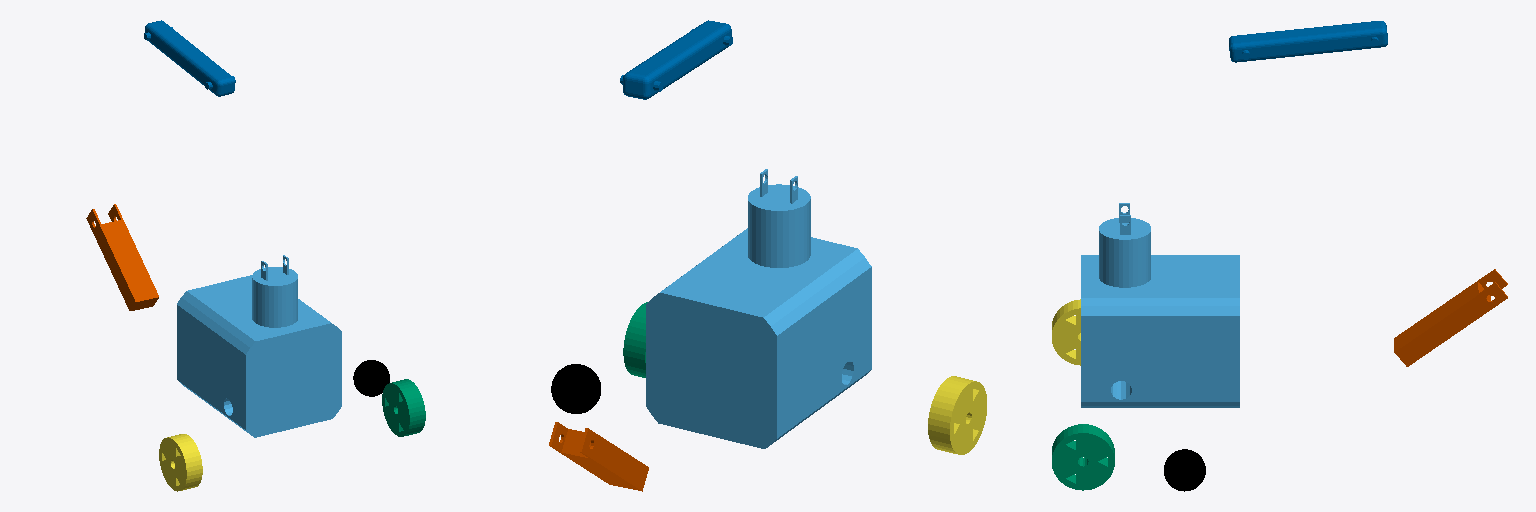
The robot description file, URDF, robot "assem1":
<?xml version="1.0" encoding="utf-8"?>
<robot name="assem1">
  <link name="base_footprint"/>
  <joint name="base_footprint_joint" type="fixed">
    <parent link="base_footprint"/>
    <child link="base_link"/>
    <origin xyz="0 0 0" rpy="0 0 0"/>
  </joint>

  <link name="base_link">
    <inertial>
      <origin xyz="0.05 0.0 -0.02" rpy="0 0 0" /> 
      <mass value="4.0" />
      <inertia ixx="0.1" ixy="0.0" ixz="0.0" iyy="0.1" iyz="0.0" izz="0.1" />
    </inertial>
    <visual>
      <geometry><mesh filename="package://assem1/meshes/base_link.STL" /></geometry>
    </visual>
    <collision>
      <geometry><box size="0.3 0.2 0.1" /></geometry>
    </collision>
  </link>

  <link name="left_wheel">
    <inertial>
      <origin xyz="0 0 0" rpy="0 0 0" /> <mass value="0.4" />
      <inertia ixx="0.01" ixy="0.0" ixz="0.0" iyy="0.01" iyz="0.0" izz="0.01" />
    </inertial>
    <visual>
      <geometry><mesh filename="package://assem1/meshes/left_wheel.STL" /></geometry>
    </visual>
    <collision>
      <geometry><cylinder radius="0.035" length="0.025" /></geometry>
    </collision>
  </link>

  <link name="right_wheel">
    <inertial>
      <origin xyz="0 0 0" rpy="0 0 0" /> <mass value="0.4" />
      <inertia ixx="0.01" ixy="0.0" ixz="0.0" iyy="0.01" iyz="0.0" izz="0.01" />
    </inertial>
    <visual>
      <geometry><mesh filename="package://assem1/meshes/right_wheel.STL" /></geometry>
    </visual>
    <collision>
      <geometry><cylinder radius="0.035" length="0.025" /></geometry>
    </collision>
  </link>

  <link name="armlink1">
    <inertial>
      <origin xyz="0 0 0.08" rpy="0 0 0" /> <mass value="0.8" />
      <inertia ixx="0.01" ixy="0.0" ixz="0.0" iyy="0.01" iyz="0.0" izz="0.01" />
    </inertial>
    <visual>
      <geometry><mesh filename="package://assem1/meshes/armlink1.STL" /></geometry>
    </visual>
  </link>

  <link name="armlink2">
    <inertial>
      <origin xyz="0 0 0.05" rpy="0 0 0" /> <mass value="0.5" />
      <inertia ixx="0.01" ixy="0.0" ixz="0.0" iyy="0.01" iyz="0.0" izz="0.01" />
    </inertial>
    <visual>
      <geometry><mesh filename="package://assem1/meshes/armlink2.STL" /></geometry>
    </visual>
  </link>

  <link name="caster_wheel">
    <inertial>
      <origin xyz="0 0 0" rpy="0 0 0" /> <mass value="0.1" />
      <inertia ixx="0.001" ixy="0.0" ixz="0.0" iyy="0.001" iyz="0.0" izz="0.001" />
    </inertial>
    <visual>
      <geometry><sphere radius="0.02"/></geometry>
      <material name="black"><color rgba="0 0 0 1"/></material>
    </visual>
    <collision>
      <geometry><sphere radius="0.02"/></geometry>
    </collision>
  </link>

  <joint name="left_wheel_joint" type="continuous">
    <origin xyz="0.069 -0.036 -0.033" rpy="0 0 0" />
    <parent link="base_link" /><child link="left_wheel" /><axis xyz="1 0 0" />
  </joint>

  <joint name="right_wheel_joint" type="continuous">
    <origin xyz="-0.070 -0.036 -0.033" rpy="0 0 0" />
    <parent link="base_link" /><child link="right_wheel" /><axis xyz="1 0 0" />
  </joint>

  <joint name="caster_joint" type="fixed">
    <parent link="base_link"/>
    <child link="caster_wheel"/>
    <origin xyz="0.12 0 -0.048" rpy="0 0 0"/>
  </joint>

  <joint name="armlink1_joint" type="revolute">
    <origin xyz="-0.002 0.001 0.173" rpy="-0.74 0 0.03" />
    <parent link="base_link" /><child link="armlink1" /><axis xyz="1 0 0" />
    <limit lower="-1.57" upper="1.57" effort="100" velocity="1" />
    <dynamics damping="1.0" friction="1.0"/>
  </joint>

  <joint name="armlink2_joint" type="revolute">
    <origin xyz="0.001 0.054 0.072" rpy="-1.29 0 0" />
    <parent link="armlink1" /><child link="armlink2" /><axis xyz="1 0 0" />
    <limit lower="-1.57" upper="1.57" effort="100" velocity="1" />
    <dynamics damping="1.0" friction="1.0"/>
  </joint>

  <gazebo>
    <plugin filename="gz-sim-diff-drive-system" name="gz::sim::systems::DiffDrive">
      <left_joint>left_wheel_joint</left_joint>
      <right_joint>right_wheel_joint</right_joint>
      <wheel_separation>0.14</wheel_separation>
      <wheel_radius>0.035</wheel_radius>
      <topic>cmd_vel</topic>
    </plugin>
    <plugin filename="gz-sim-joint-state-publisher-system" name="gz::sim::systems::JointStatePublisher">
      <topic>joint_states</topic>
    </plugin>
  </gazebo>
</robot>

--- Facts derived from the render (not from the file) ---
Views: 3 orthographic renders of the robot side by side, from view 1: azimuth 30°, elevation 25°; view 2: azimuth 150°, elevation 25°; view 3: azimuth 270°, elevation 25°.
Model assem1 with 7 links and 6 joints (2 revolute, 2 continuous, 2 fixed), rooted at base_footprint, posed every joint at zero.
Links seen in each view (by area): view 1: base_link, armlink2, armlink1, left_wheel, right_wheel, caster_wheel; view 2: base_link, armlink1, right_wheel, armlink2, caster_wheel, left_wheel; view 3: base_link, armlink1, armlink2, left_wheel, right_wheel, caster_wheel.
Link boxes in pixels (box(x1,y1,x2,y2)): base_link: box(177, 255, 341, 437); armlink2: box(86, 204, 158, 310); armlink1: box(144, 20, 235, 96); left_wheel: box(382, 379, 425, 436); right_wheel: box(159, 434, 202, 491); caster_wheel: box(353, 360, 389, 396); base_link: box(646, 169, 871, 448); armlink1: box(620, 20, 732, 99); right_wheel: box(928, 376, 986, 454); armlink2: box(549, 422, 648, 491); caster_wheel: box(551, 364, 600, 413); left_wheel: box(623, 302, 647, 377); base_link: box(1081, 203, 1239, 407); armlink1: box(1229, 21, 1387, 62); armlink2: box(1394, 269, 1507, 366); left_wheel: box(1052, 424, 1114, 490); right_wheel: box(1052, 299, 1080, 365); caster_wheel: box(1164, 449, 1205, 491).
Bounding box of the posed robot: 0.324 × 0.4313 × 0.4122 m (x, y, z).
5 mesh visuals loaded from 5 distinct referenced files (5 binary STL).
